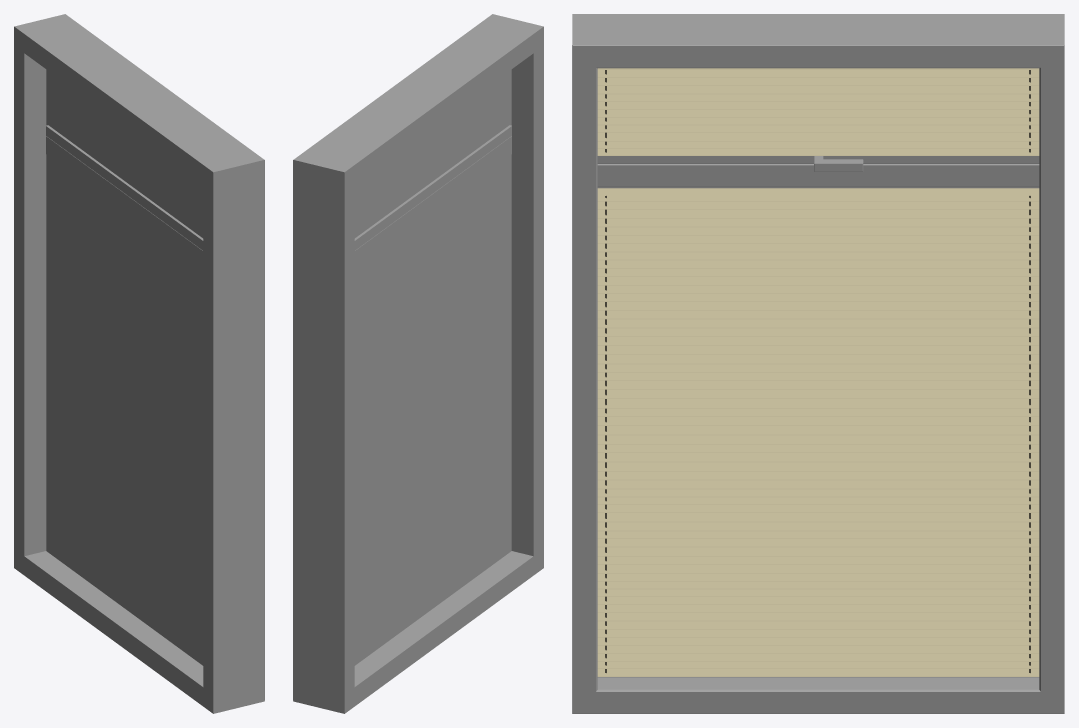
The model's file is Window 1.fbx.
3 views of the same model, side by side, from view 1: azimuth 30°, elevation 25°; view 2: azimuth 150°, elevation 25°; view 3: azimuth 270°, elevation 25° (orthographic). The views are drawn at different scales.
Visible parts, largest first — view 1: Glass, WindowFrame, Bar, Bar1; view 2: Glass, WindowFrame, Bar, Bar1; view 3: WindowFrame, Bar, Blind14, Blind32, Blind54, Blind44, Blind41, Blind37, Blind51, Blind50, Blind46, Blind43 (+61 smaller).
Part boxes in pixels (box(x1,y1,x2,y2)): Glass: box(46, 69, 203, 665); WindowFrame: box(14, 14, 264, 713); Bar: box(46, 136, 203, 268); Bar1: box(46, 125, 203, 250); Glass: box(354, 69, 511, 665); WindowFrame: box(293, 14, 543, 713); Bar: box(354, 136, 511, 268); Bar1: box(354, 125, 511, 250); WindowFrame: box(572, 14, 1064, 713); Bar: box(597, 164, 1039, 186); Blind14: box(597, 188, 1039, 201); Blind32: box(597, 354, 1039, 364); Blind54: box(597, 547, 1039, 556); Blind44: box(597, 462, 1039, 471); Blind41: box(597, 435, 1039, 444); Blind37: box(597, 399, 1039, 408); Blind51: box(597, 522, 1039, 531); Blind50: box(597, 513, 1039, 522); Blind46: box(597, 480, 1039, 489); Blind43: box(597, 453, 1039, 462).
Size of the model in its own units: 15 by 150 by 100.
